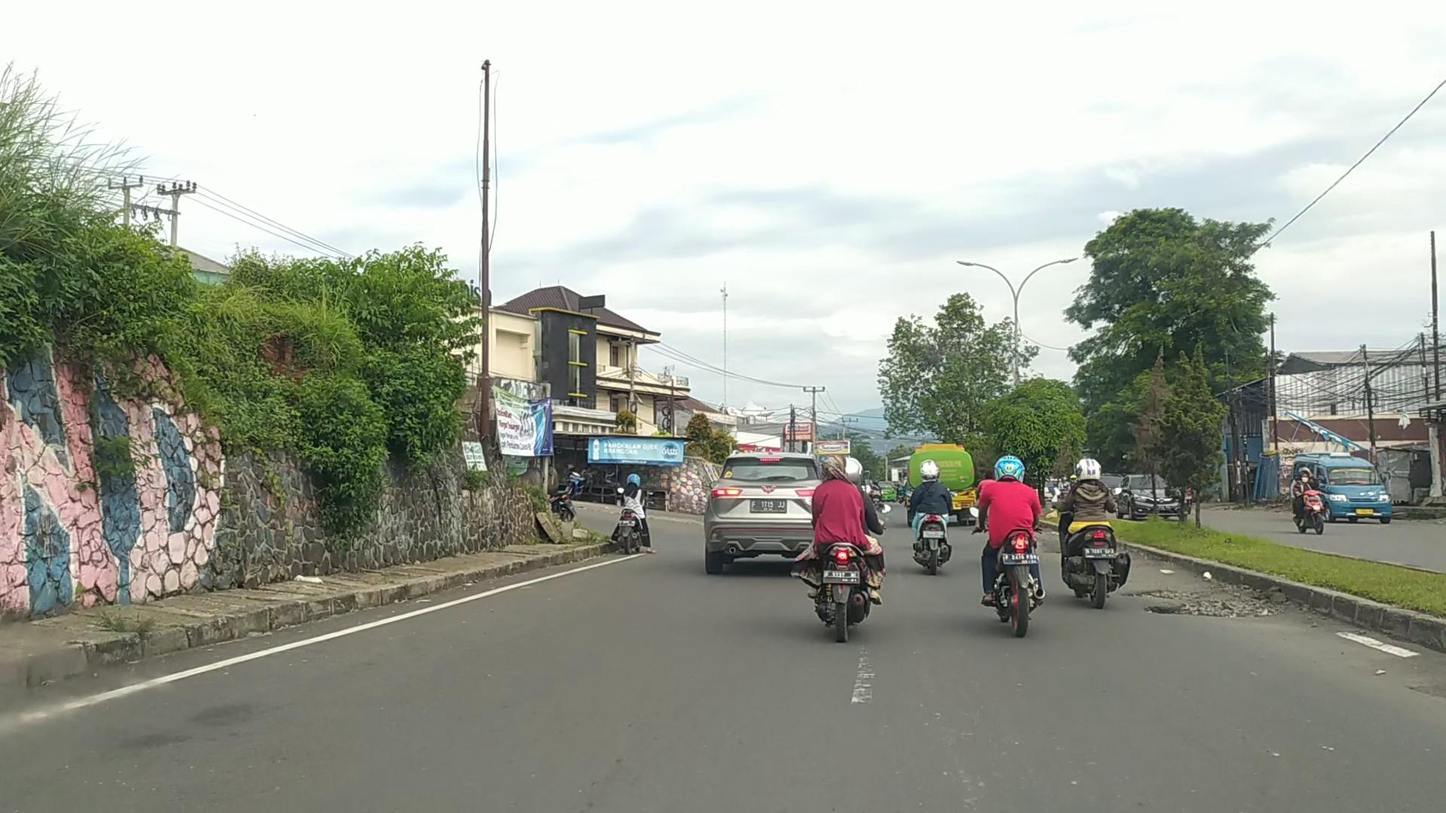pothole: (1122, 583, 1284, 618)
